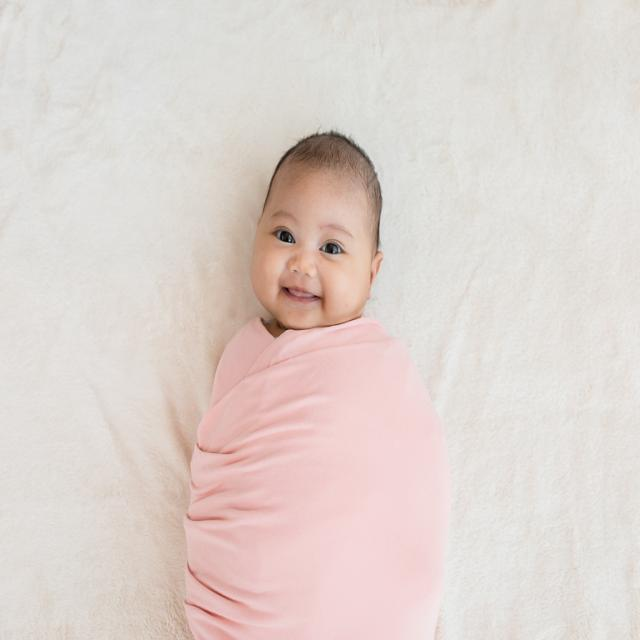non-dog: (178, 129, 453, 640)
